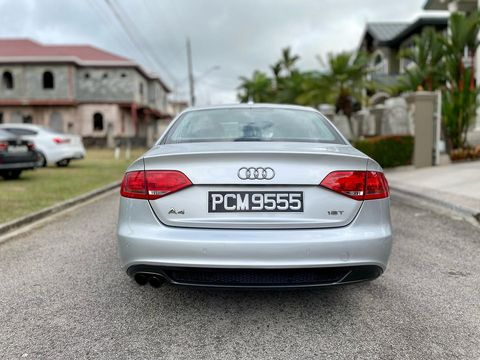License-Plate: (207, 191, 302, 211)
